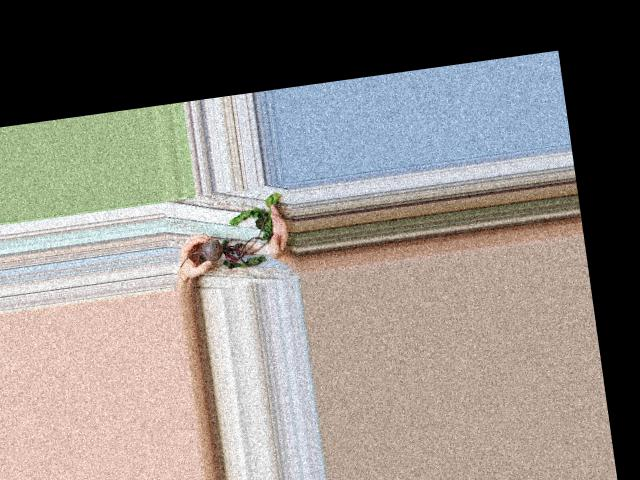beet: (171, 192, 289, 275)
